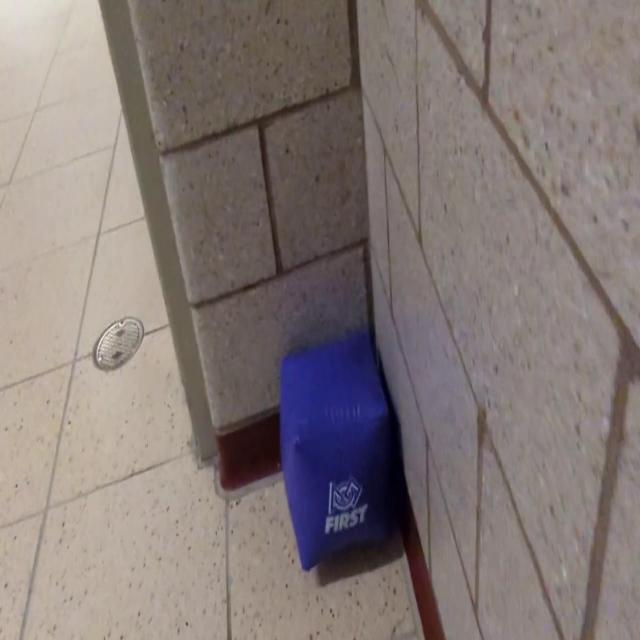frc_cube: (280, 338, 398, 570)
